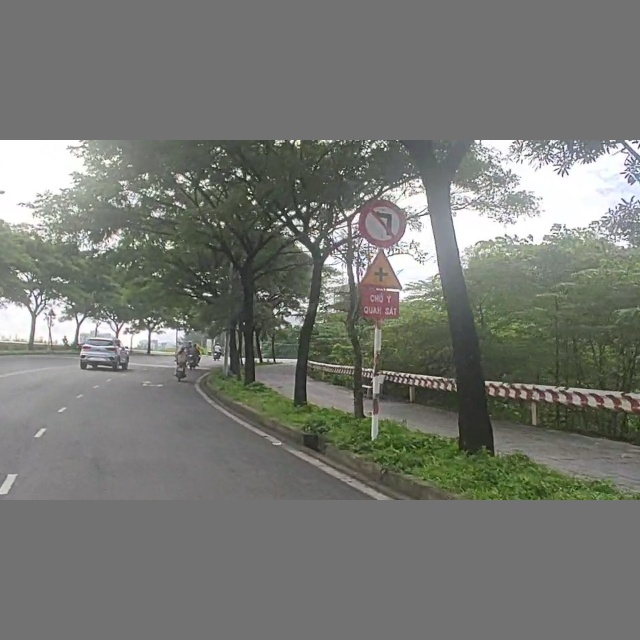P.123a: (359, 198, 411, 249)
W.205a: (358, 250, 405, 290)
